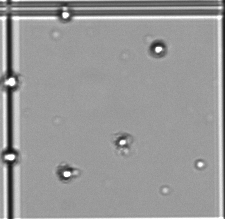Living Cell: (2, 73, 18, 89), (149, 41, 166, 56), (2, 150, 17, 164), (58, 165, 72, 180), (114, 135, 129, 149), (59, 7, 72, 22), (195, 159, 205, 170)
